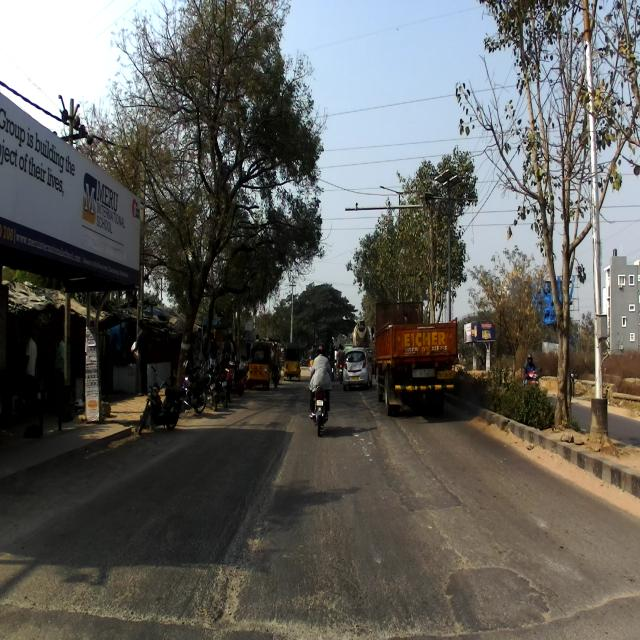truck ahead at: (367, 291, 459, 419)
